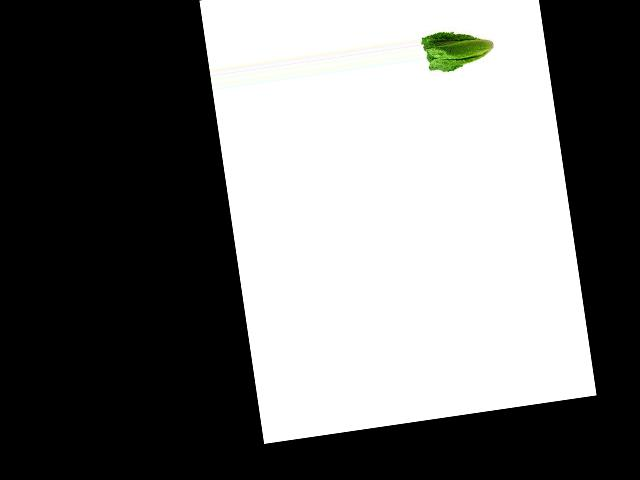lettuce: (419, 21, 497, 77)
